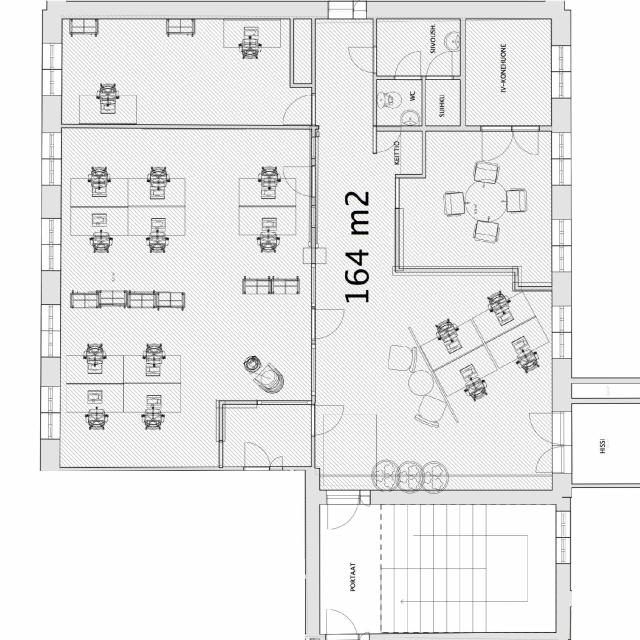door: (518, 412, 572, 446), (328, 489, 360, 536), (524, 446, 572, 474), (482, 126, 513, 162), (311, 309, 344, 338), (282, 167, 315, 196), (282, 95, 314, 124), (311, 406, 344, 434), (426, 50, 452, 80), (244, 442, 270, 471), (395, 50, 421, 79), (513, 126, 538, 156), (348, 48, 377, 72), (328, 0, 353, 19), (359, 489, 370, 515), (353, 0, 366, 19), (270, 454, 282, 471)
